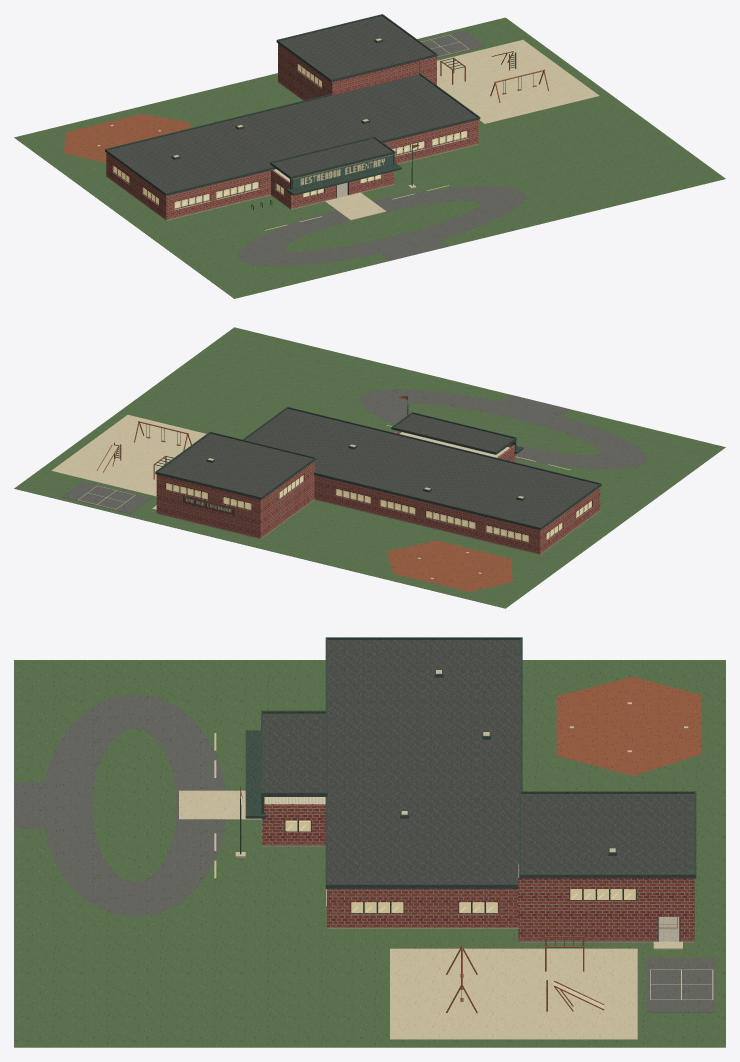
The model's file is westmeadow-1955-mid.glb.
3 renders of one model, top to bottom at view 1: azimuth 30°, elevation 25°; view 2: azimuth 150°, elevation 25°; view 3: azimuth 270°, elevation 25°, orthographic. The views are drawn at different scales.
Visible parts, largest first — view 1: lot, building_shell, sign_name; view 2: lot, building_shell; view 3: lot, building_shell.
Boxes of the visible parts, <box> form: lot: <box>14,17,725,298</box>; building_shell: <box>105,14,480,220</box>; sign_name: <box>292,154,393,189</box>; lot: <box>14,327,725,608</box>; building_shell: <box>152,406,601,554</box>; lot: <box>14,660,725,1047</box>; building_shell: <box>245,637,696,949</box>.
Size of what is drawn, in the model's own units: 85 by 7.16 by 66.
11 materials, 11 textured.
